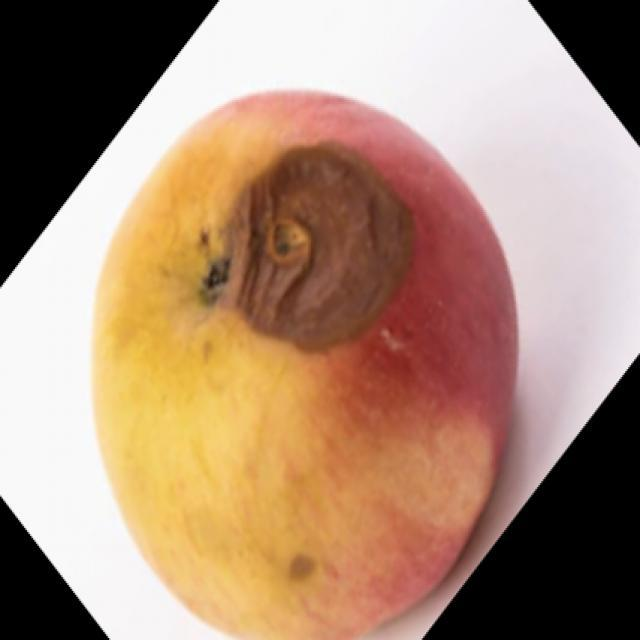Rotten: (126, 93, 509, 640)
